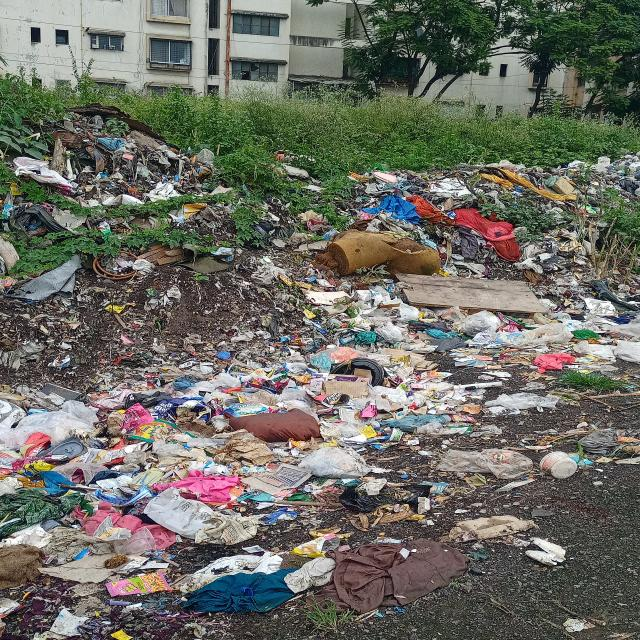garbage: (4, 155, 640, 419), (6, 423, 504, 640)
